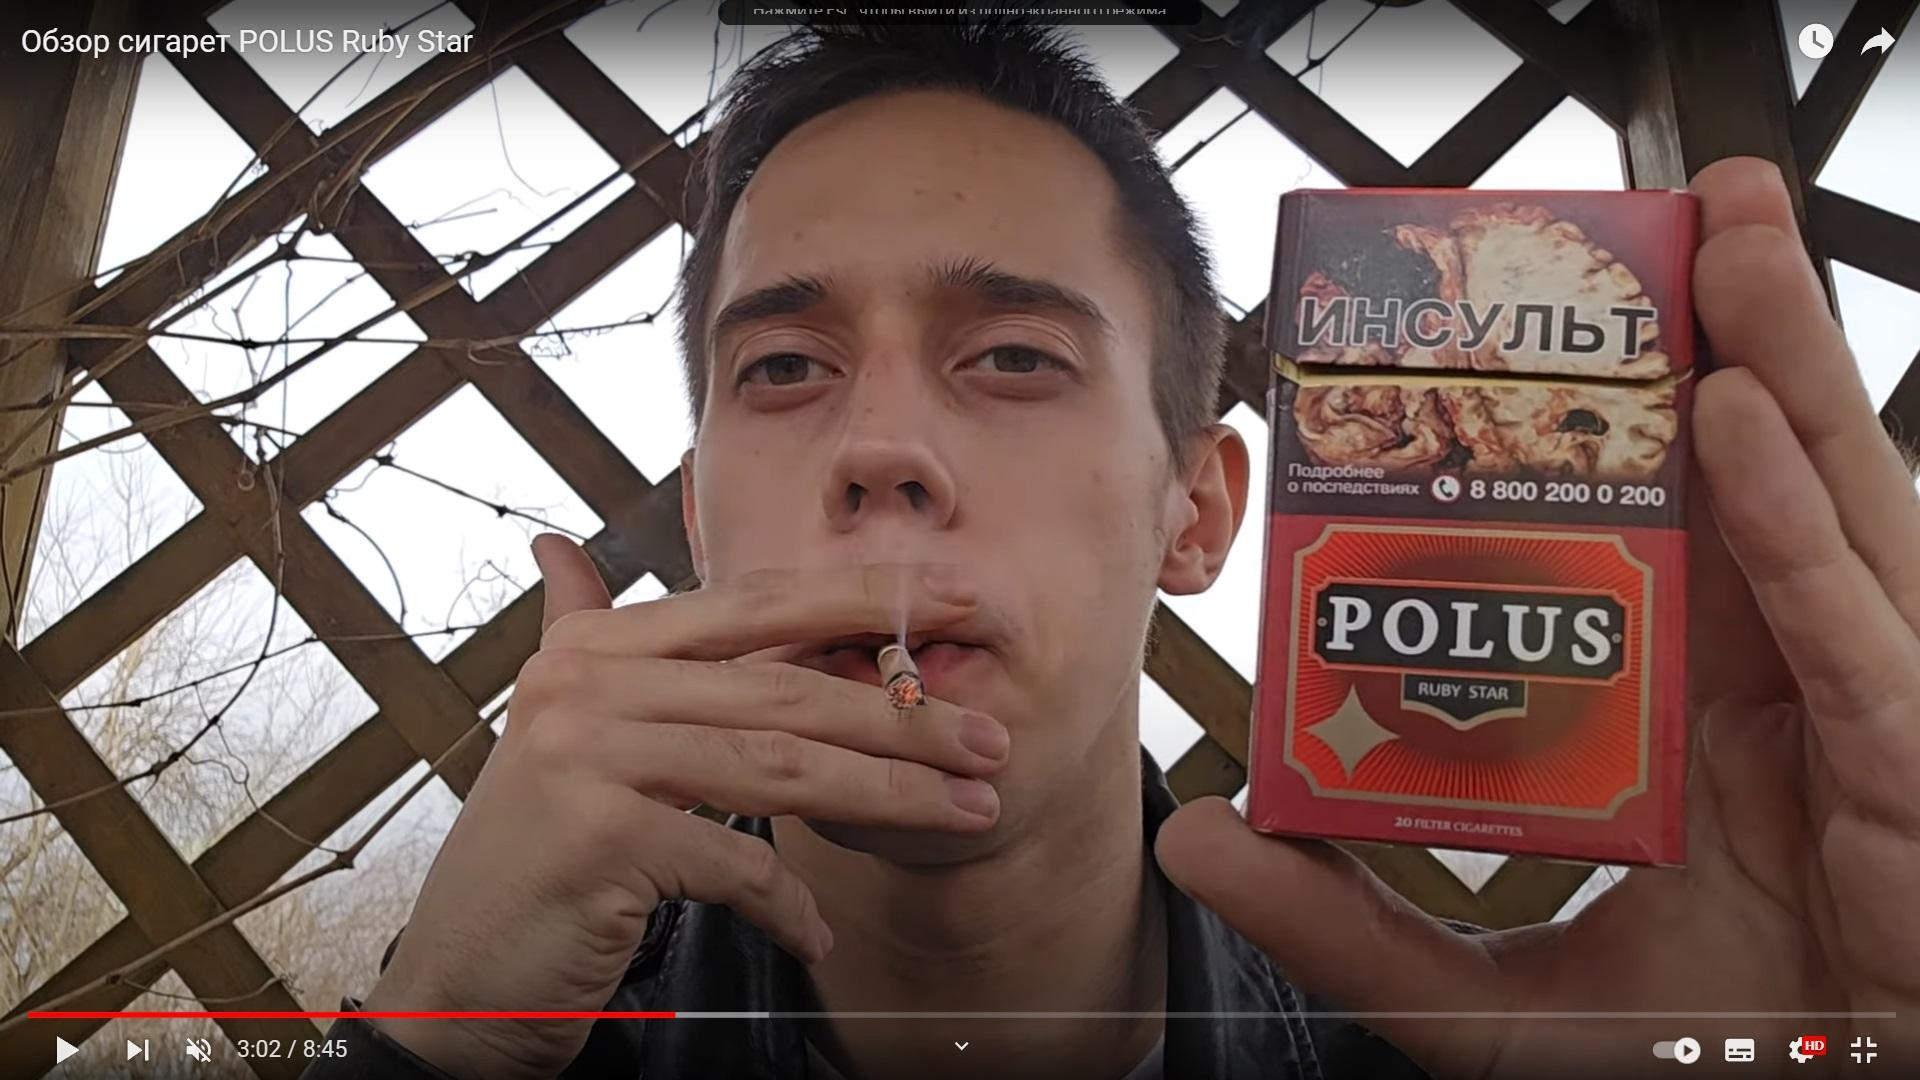cigarette: (877, 641, 926, 712)
